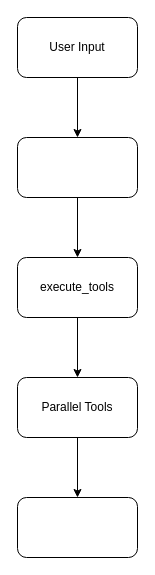
Some shapes in this 155 by 575 pixel diagram are drawn without their labels. Here are the shapes that lost their labels. From the top down, the centre of each, then its label:
At pixel 77 167: "Chat Graph".
At pixel 77 527: "Response".
